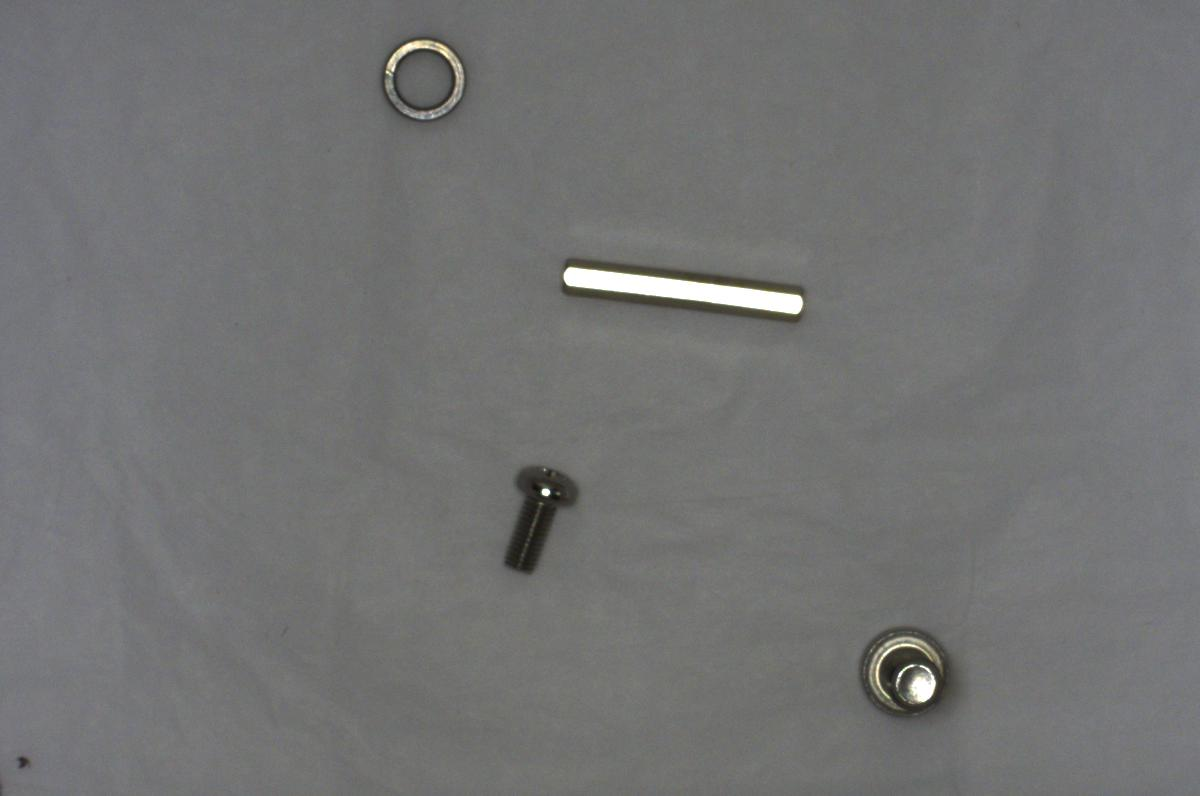Double hexagonal column: (555, 252, 814, 329)
Hexagon screw: (857, 620, 958, 720)
Round head screw: (495, 460, 581, 580)
Spring washer: (370, 25, 477, 128)
